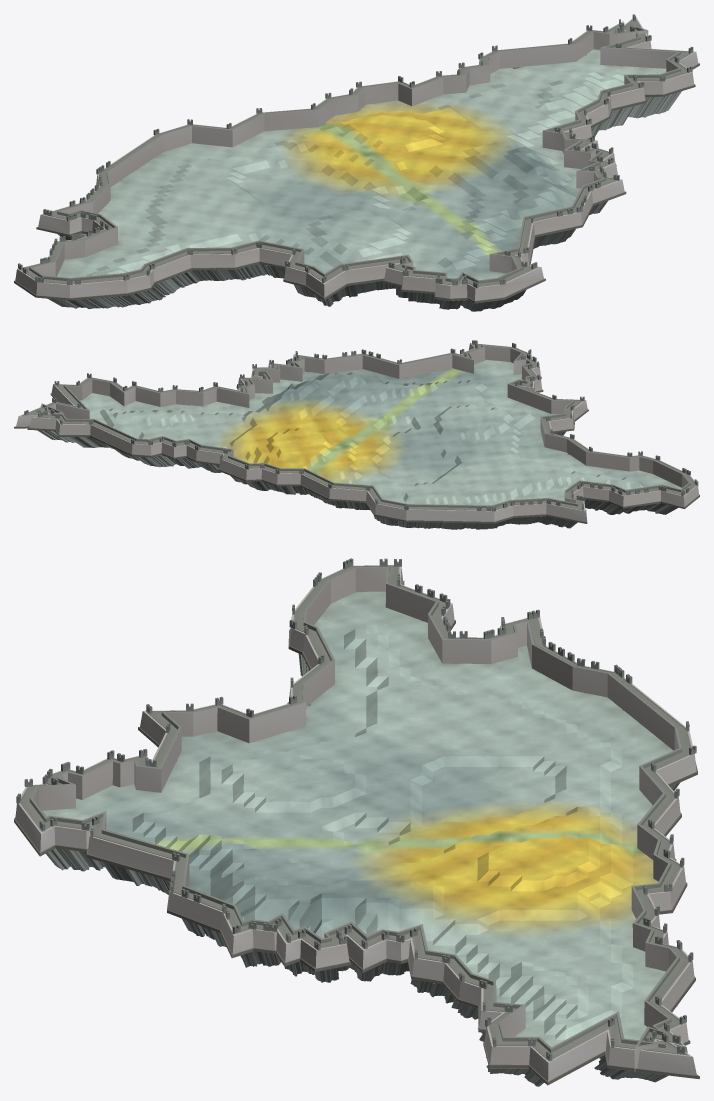
3 views of the same model, one above another, from view 1: azimuth 30°, elevation 25°; view 2: azimuth 150°, elevation 25°; view 3: azimuth 270°, elevation 25° (orthographic). The views are drawn at different scales.
Parts seen in each view (by area): view 1: ground_c3f69a44; view 2: ground_c3f69a44; view 3: ground_c3f69a44.
Part boxes in pixels (x1,y1,x2,y2): ground_c3f69a44: [14, 14, 699, 311]; ground_c3f69a44: [14, 340, 699, 529]; ground_c3f69a44: [14, 558, 699, 1086].
Bounding box in the file's own units: 160 × 7.61 × 92.5.
Materials: 3 (1 with a texture image).
